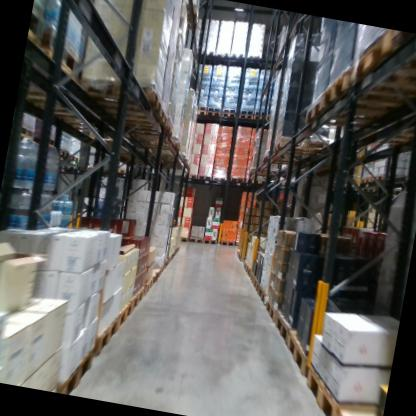pallet: (322, 61, 416, 123), (303, 91, 410, 143), (344, 25, 416, 97), (299, 363, 389, 416), (77, 67, 165, 120), (32, 26, 86, 90), (55, 341, 101, 399), (104, 95, 172, 131), (280, 327, 323, 381), (272, 132, 333, 167), (88, 308, 121, 361), (270, 305, 307, 351), (128, 114, 177, 144), (263, 145, 308, 170), (26, 9, 49, 49), (262, 294, 284, 328), (147, 134, 185, 153), (112, 299, 134, 331), (339, 403, 381, 416), (127, 284, 145, 313), (202, 235, 236, 248), (255, 278, 270, 306), (139, 275, 154, 299), (369, 167, 387, 185), (353, 173, 372, 190), (144, 269, 159, 288), (186, 233, 205, 247), (250, 272, 261, 296), (244, 51, 264, 64), (195, 171, 213, 184), (213, 47, 231, 60), (229, 49, 248, 61), (57, 146, 72, 161), (197, 46, 215, 58), (220, 110, 238, 121), (228, 173, 244, 185), (243, 175, 259, 187), (237, 111, 254, 122), (182, 169, 198, 180), (116, 166, 133, 176), (211, 174, 228, 183), (247, 268, 256, 285), (243, 262, 253, 277), (68, 153, 81, 164), (252, 112, 266, 122), (154, 262, 164, 276), (206, 109, 221, 118), (241, 257, 249, 273), (179, 235, 190, 245), (162, 257, 169, 268), (197, 109, 206, 117)
